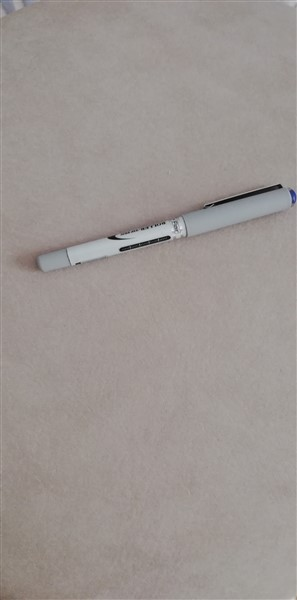pilot kalem: (29, 179, 297, 280)
